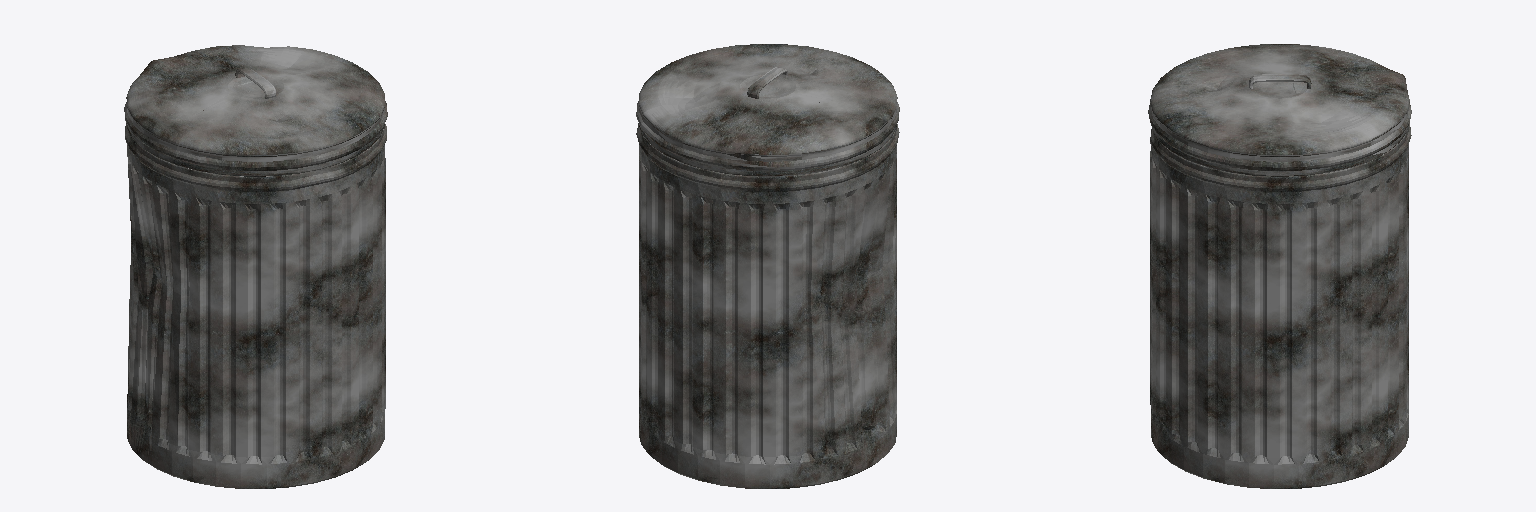
The picture shows the model from 3 angles: view 1: azimuth 30°, elevation 25°; view 2: azimuth 150°, elevation 25°; view 3: azimuth 270°, elevation 25°; orthographic projection.
Visible parts, largest first — view 1: contener, cover; view 2: contener, cover; view 3: contener, cover.
Part boxes in pixels (x1,y1,x2,y2): contener: (125, 123, 386, 488); cover: (124, 45, 387, 176); contener: (636, 123, 899, 488); cover: (636, 44, 899, 176); contener: (1150, 123, 1411, 488); cover: (1148, 44, 1411, 176).
Size of the model in its own units: 61.02 by 91.69 by 61.02.
1 materials, 1 textured.